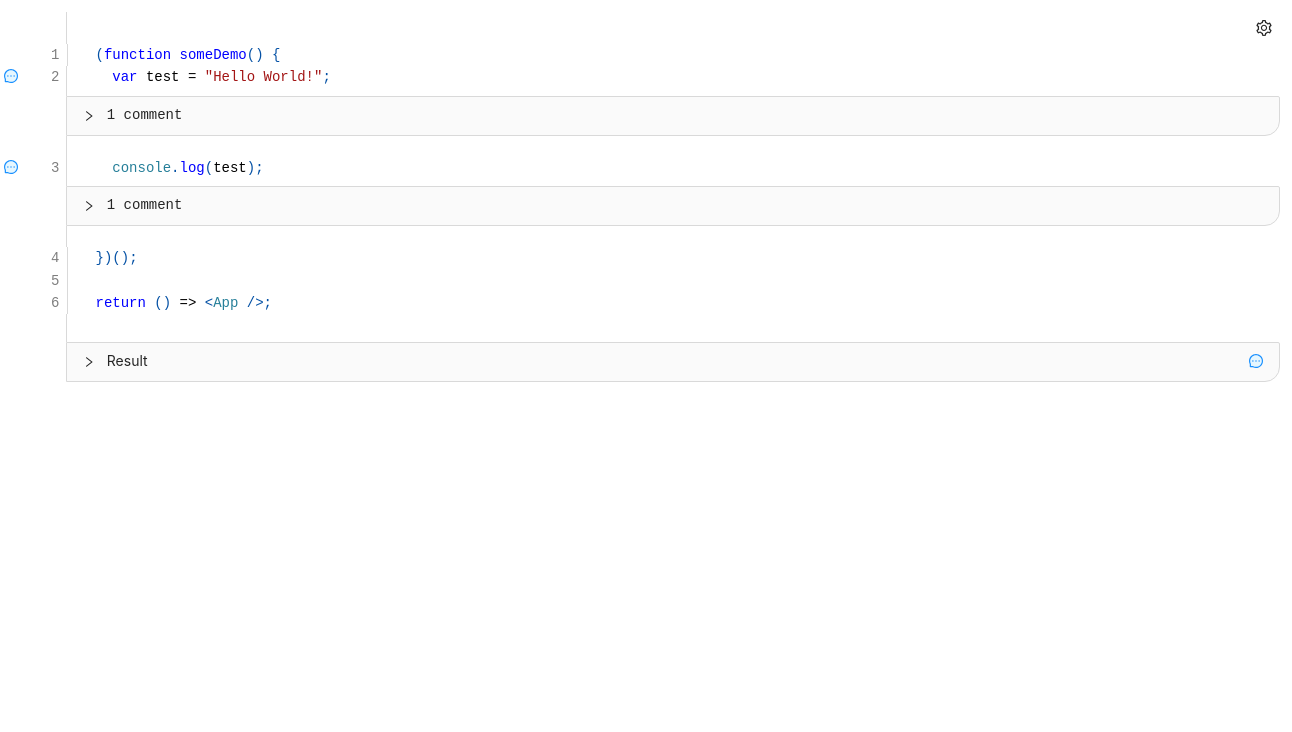
Scenario: expand-all shortcut expands all present comments
Expected: the element with test id "commentViewer1" does not show "a comment", [0,89,1280,157]
Expected: the element with test id "commentViewer2" does not show "a comment", [0,179,1280,247]
Click the button with test id "shortcutButton".
click(1264, 28)  # box [1248,12,1280,44]
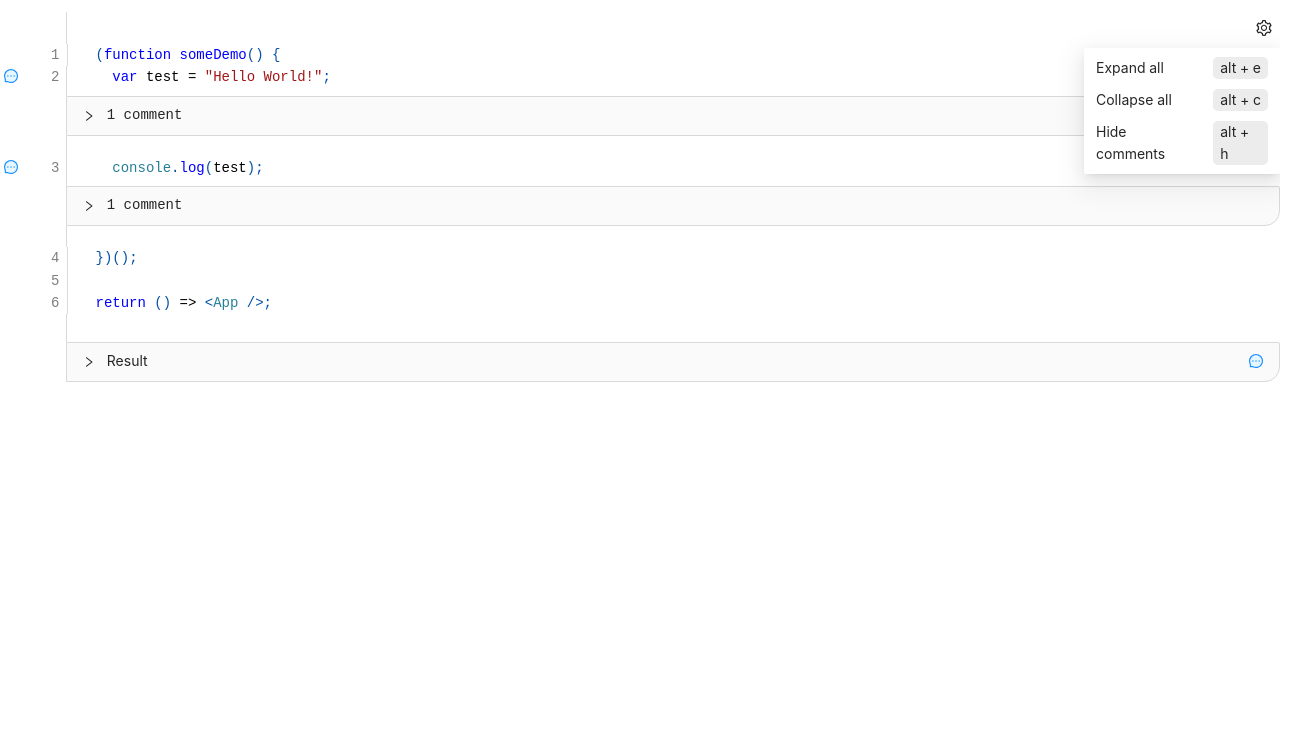
Now the menu with test id "shortcutMenu" is shown, box [1084,48,1280,174]
Click the menu item with test id "expandButton".
click(1130, 68)  # box [1084,52,1280,84]
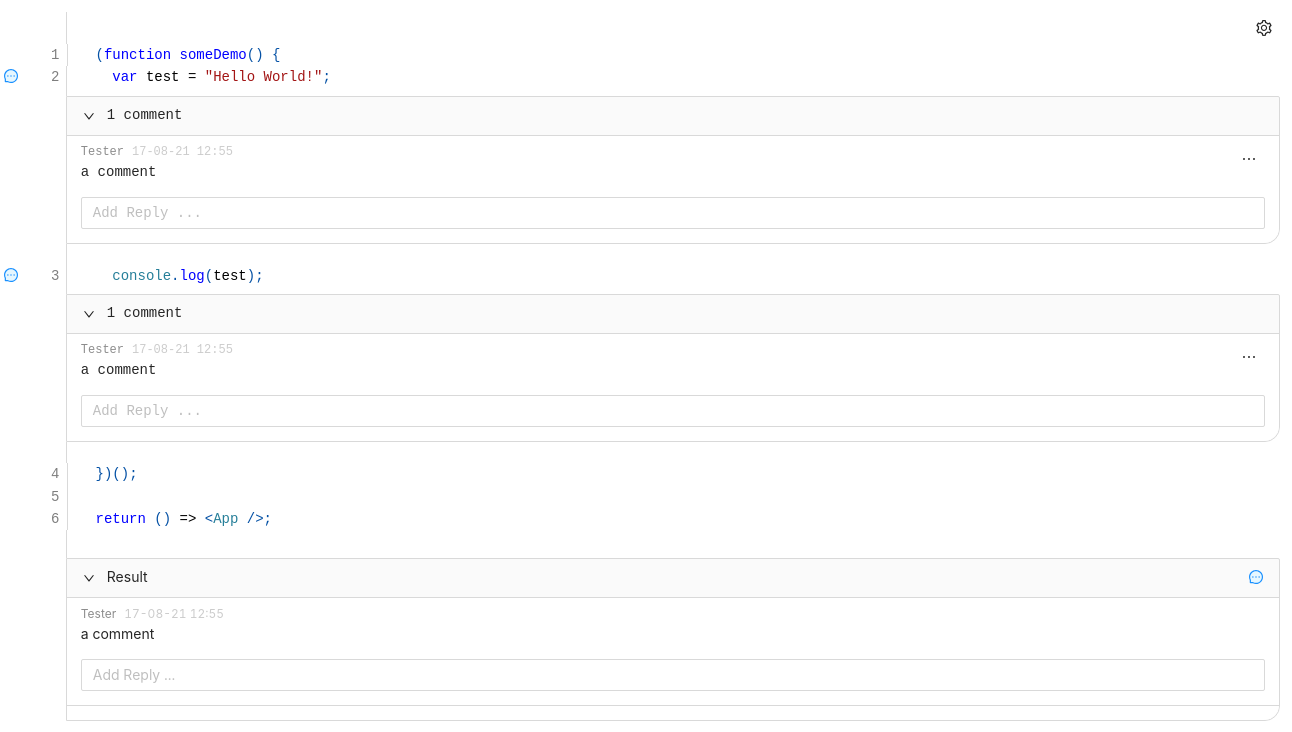
Now the element with test id "commentViewer1" shows "a comment", box [81,164,156,180]
Now the element with test id "commentViewer2" shows "a comment", box [81,362,156,378]
Now the element with test id "resultViewer" shows "a comment", box [81,625,154,642]
